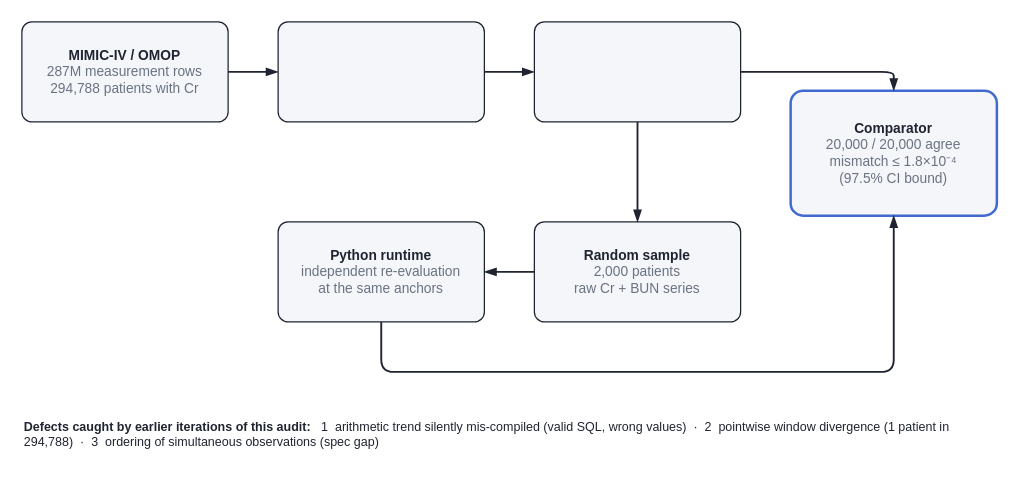
Image size: 1020x481. Some labels were removed from this diagram. Each missing label, with the centre of its shape:
"Compiled SQL 126 lines, 1.2 ms peak-Cr anchor per patient" belongs at point 380,71.
"Staged cohort 294,788 rows 10 logic outputs each" belongs at point 637,71.
